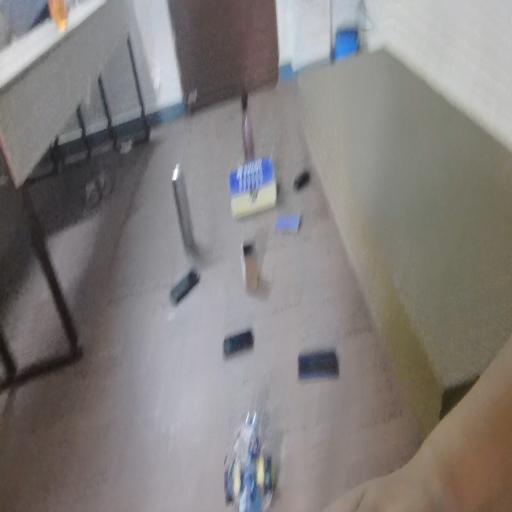Bottle: (240, 83, 260, 149)
car: (215, 424, 279, 501)
